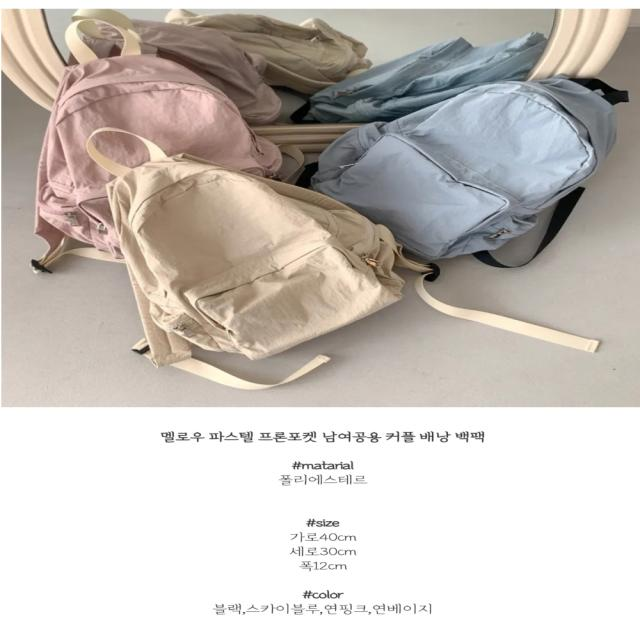backpack: (73, 125, 431, 392)
